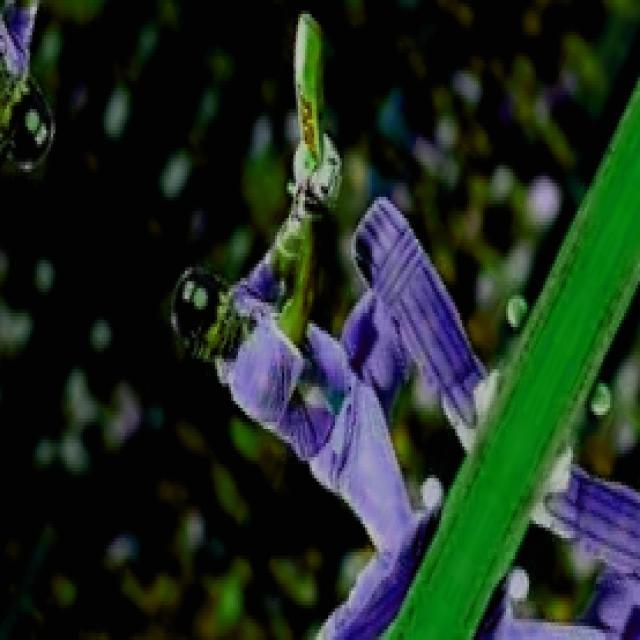bat: (288, 9, 342, 167)
toe: (296, 10, 325, 37)
